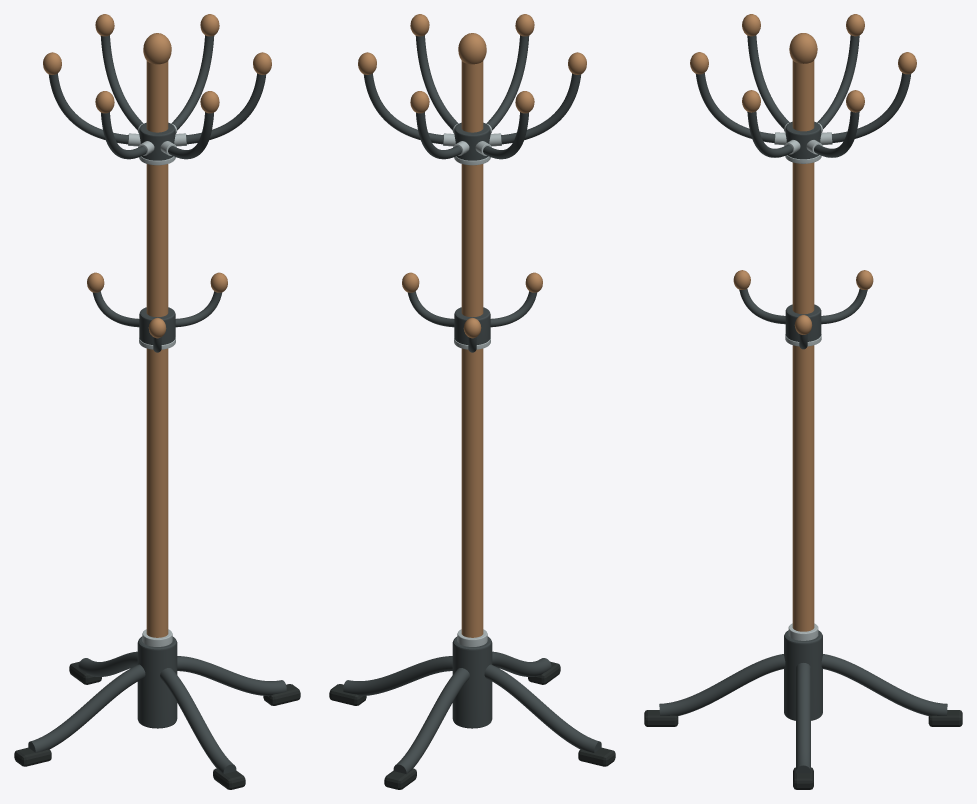
File: city-public-coat-stand.glb
3 renders of one model, left to right at view 1: azimuth 30°, elevation 25°; view 2: azimuth 150°, elevation 25°; view 3: azimuth 270°, elevation 25°, orthographic.
Visible parts, largest first — view 1: Assembly | Charcoal structural metal, Assembly | Plain warm timber tone, Assembly | Soft charcoal contact pads, Assembly | Satin stainless fittings; view 2: Assembly | Charcoal structural metal, Assembly | Plain warm timber tone, Assembly | Soft charcoal contact pads, Assembly | Satin stainless fittings; view 3: Assembly | Charcoal structural metal, Assembly | Plain warm timber tone, Assembly | Soft charcoal contact pads, Assembly | Satin stainless fittings.
Boxes of the visible parts, x1,y1,x2,y2 form: Assembly | Charcoal structural metal: [28, 35, 286, 774]; Assembly | Plain warm timber tone: [43, 14, 271, 637]; Assembly | Soft charcoal contact pads: [14, 661, 300, 789]; Assembly | Satin stainless fittings: [128, 123, 186, 646]; Assembly | Charcoal structural metal: [343, 35, 601, 774]; Assembly | Plain warm timber tone: [358, 14, 586, 637]; Assembly | Soft charcoal contact pads: [329, 661, 615, 789]; Assembly | Satin stainless fittings: [443, 123, 501, 646]; Assembly | Charcoal structural metal: [659, 35, 947, 773]; Assembly | Plain warm timber tone: [690, 14, 916, 631]; Assembly | Soft charcoal contact pads: [644, 710, 962, 789]; Assembly | Satin stainless fittings: [774, 122, 832, 640].
Bounding box in the file's own units: 0.766 × 1.83 × 0.766.
